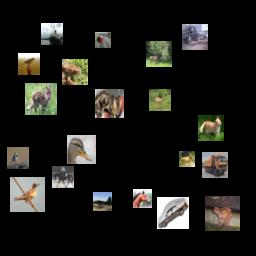airplane: (93, 192, 112, 211)
automobile: (157, 197, 189, 229)
bird: (10, 177, 45, 212), (67, 135, 96, 164), (18, 53, 40, 75), (7, 147, 29, 169)
cat: (95, 89, 124, 118), (198, 115, 224, 141)
deer: (25, 83, 57, 115), (146, 41, 172, 67), (149, 89, 171, 111), (179, 151, 195, 167)
frog: (205, 196, 240, 231), (62, 59, 88, 85)
ship: (41, 23, 63, 45)
truck: (182, 24, 208, 50), (202, 152, 228, 178), (95, 32, 111, 48)
